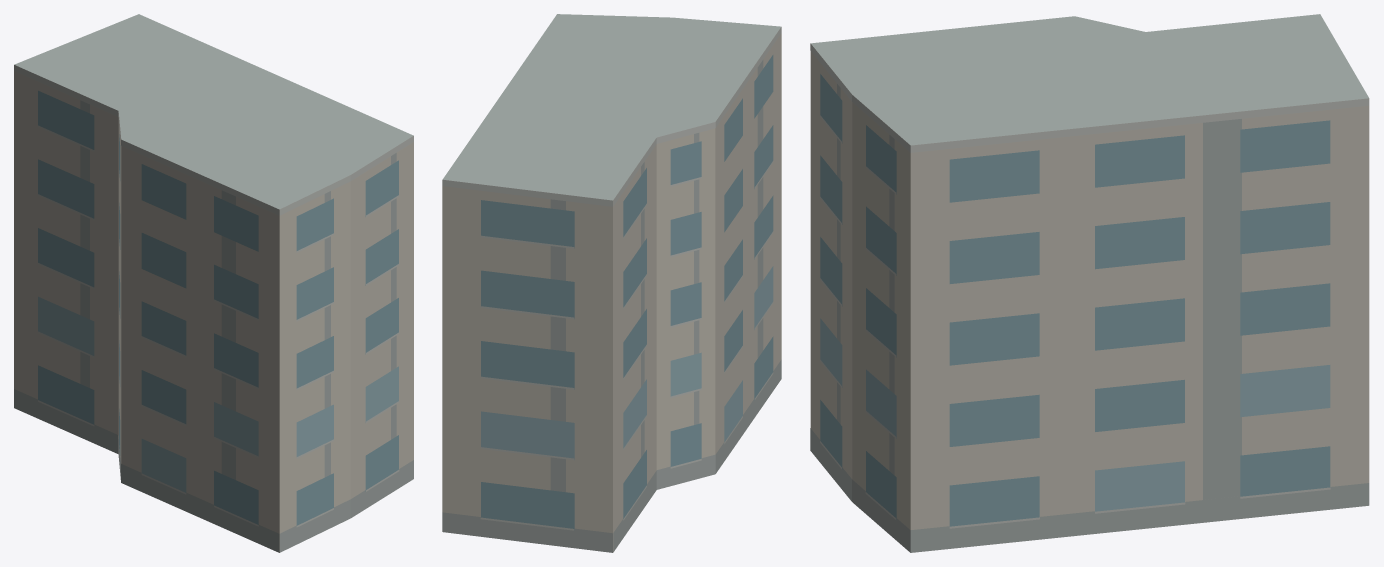
Rendered from residential-40cfe9f4-fab6-4f8c-9304-8c3ab29cd9b0.glb.
3 views of the same model, side by side, from view 1: azimuth 30°, elevation 25°; view 2: azimuth 150°, elevation 25°; view 3: azimuth 270°, elevation 25° (orthographic). The views are drawn at different scales.
Visible parts, largest first — view 1: residential-40cfe9f4-fab6-4f8c-9304-8c3ab29cd9b0.tmp; view 2: residential-40cfe9f4-fab6-4f8c-9304-8c3ab29cd9b0.tmp; view 3: residential-40cfe9f4-fab6-4f8c-9304-8c3ab29cd9b0.tmp.
Boxes of the visible parts, x1=… form: residential-40cfe9f4-fab6-4f8c-9304-8c3ab29cd9b0.tmp: x1=14, y1=14, x2=413, y2=552; residential-40cfe9f4-fab6-4f8c-9304-8c3ab29cd9b0.tmp: x1=442, y1=14, x2=781, y2=552; residential-40cfe9f4-fab6-4f8c-9304-8c3ab29cd9b0.tmp: x1=810, y1=14, x2=1369, y2=552.
Size of the model in its own units: 9.32 by 13.45 by 16.73.
